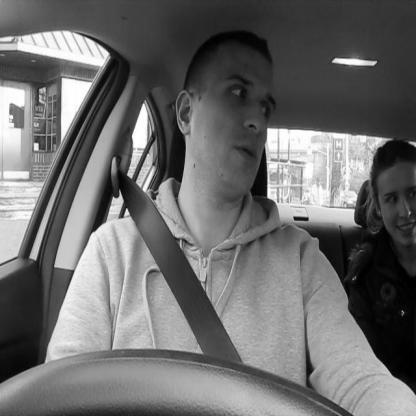seatbelt: (105, 26, 309, 402)
